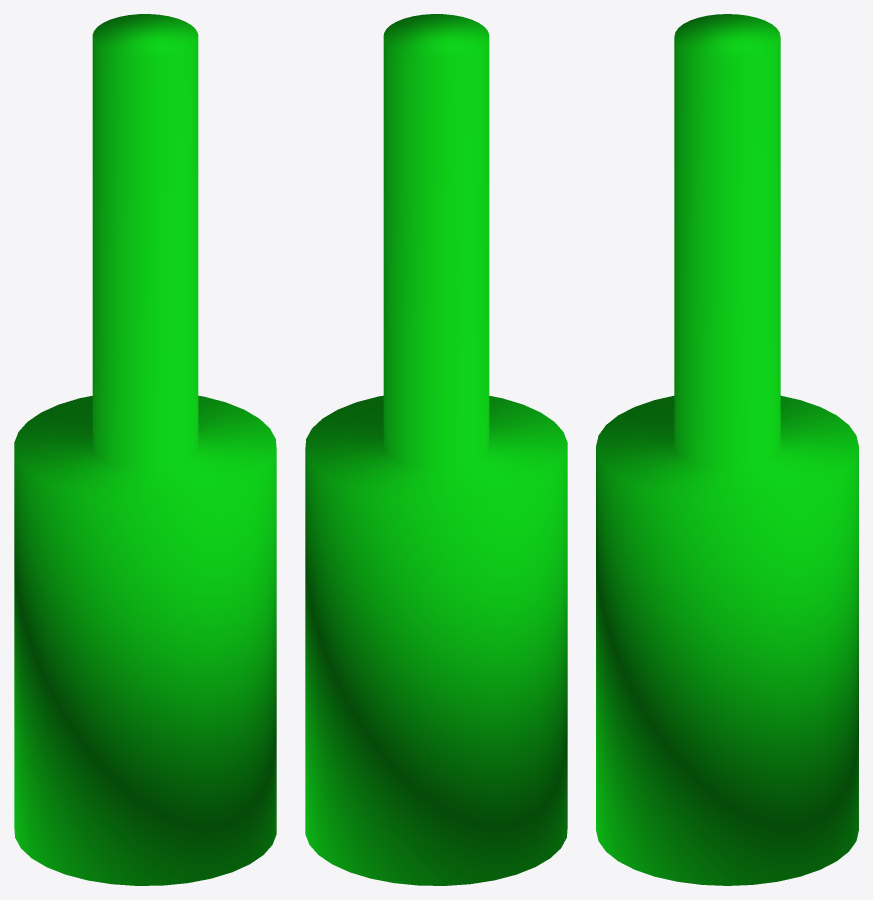
Rendered from Wine_bottle_1.fbx.
3 views of the same model, side by side, from view 1: azimuth 30°, elevation 25°; view 2: azimuth 150°, elevation 25°; view 3: azimuth 270°, elevation 25° (orthographic).
Visible parts, largest first — view 1: Cylinder.044; view 2: Cylinder.044; view 3: Cylinder.044.
Boxes of the visible parts, left/top/right/bottom form: Cylinder.044: left=14, top=14, right=276, bottom=885; Cylinder.044: left=305, top=14, right=567, bottom=885; Cylinder.044: left=596, top=14, right=858, bottom=885.
Bounding box in the file's own units: 19.09 × 63.61 × 19.09.
